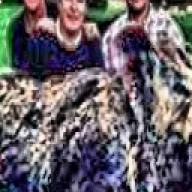boar: (0, 25, 192, 192)
